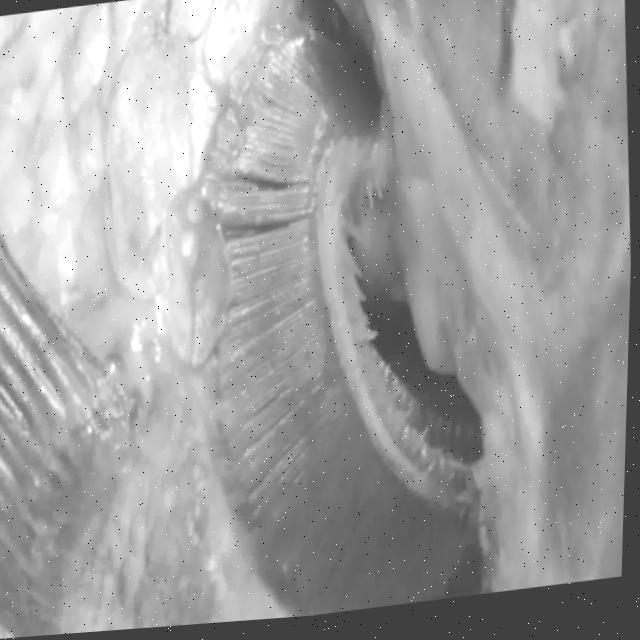Non-Fresh: (162, 0, 443, 630)
